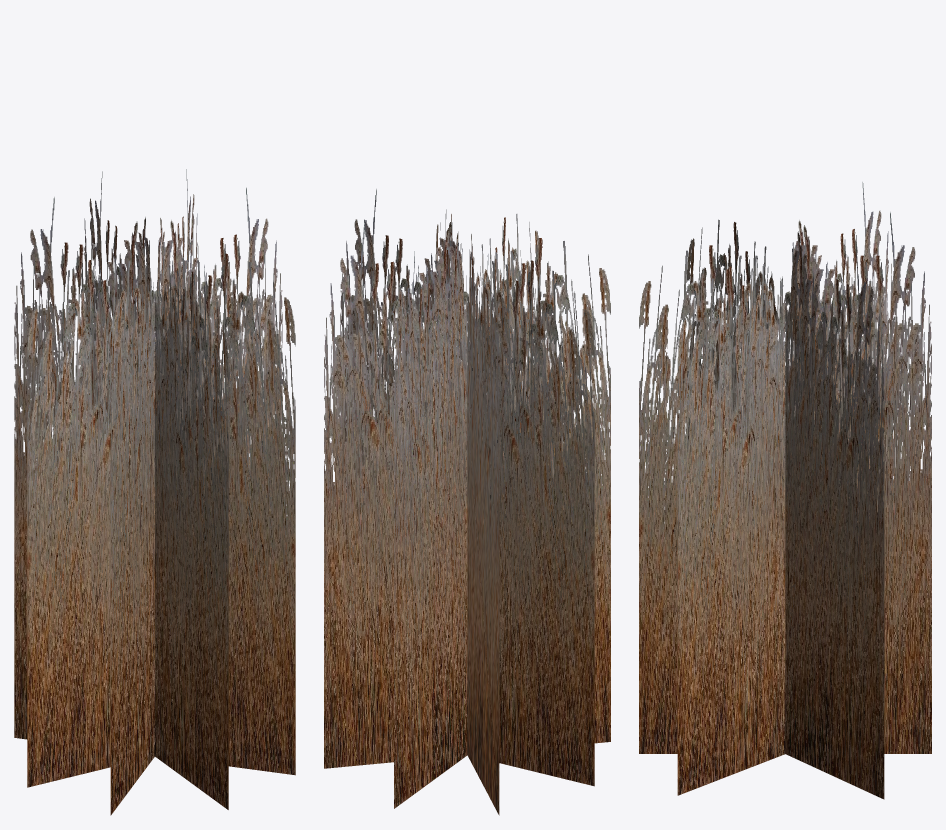
File: hierbas 3 (1).glb
3 renders of one model, left to right at view 1: azimuth 30°, elevation 25°; view 2: azimuth 150°, elevation 25°; view 3: azimuth 270°, elevation 25°, orthographic.
Parts seen in each view (by area): view 1: plane; view 2: plane; view 3: plane.
Boxes of the visible parts, x1,y1,x2,y2 form: plane: [14, 169, 295, 815]; plane: [324, 189, 610, 815]; plane: [639, 182, 931, 799].
Bounding box in the file's own units: 1.12 × 2.88 × 1.13.
Materials: 1 (1 with a texture image).
